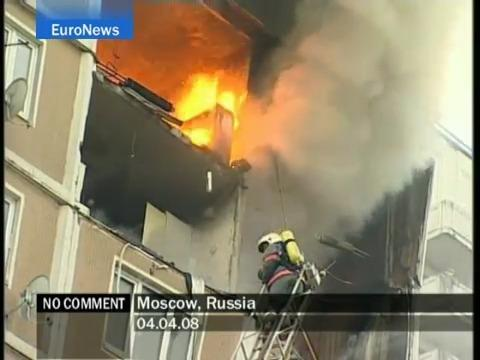fire: (165, 65, 251, 146)
